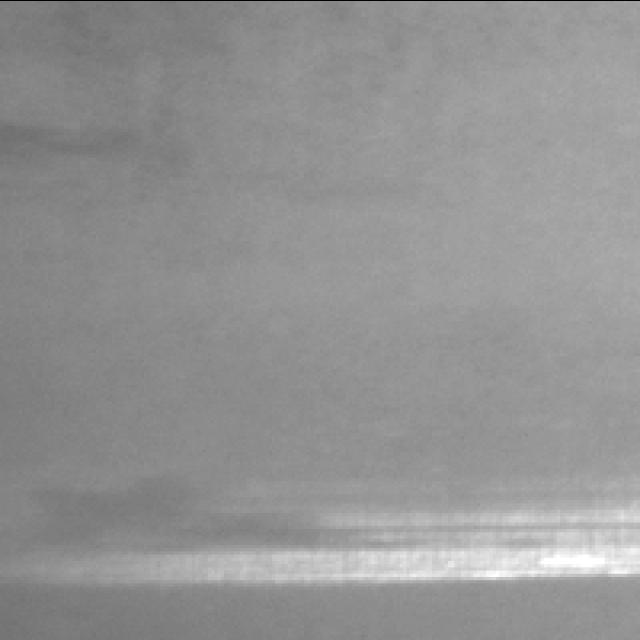scratches: (0, 518, 640, 586)
